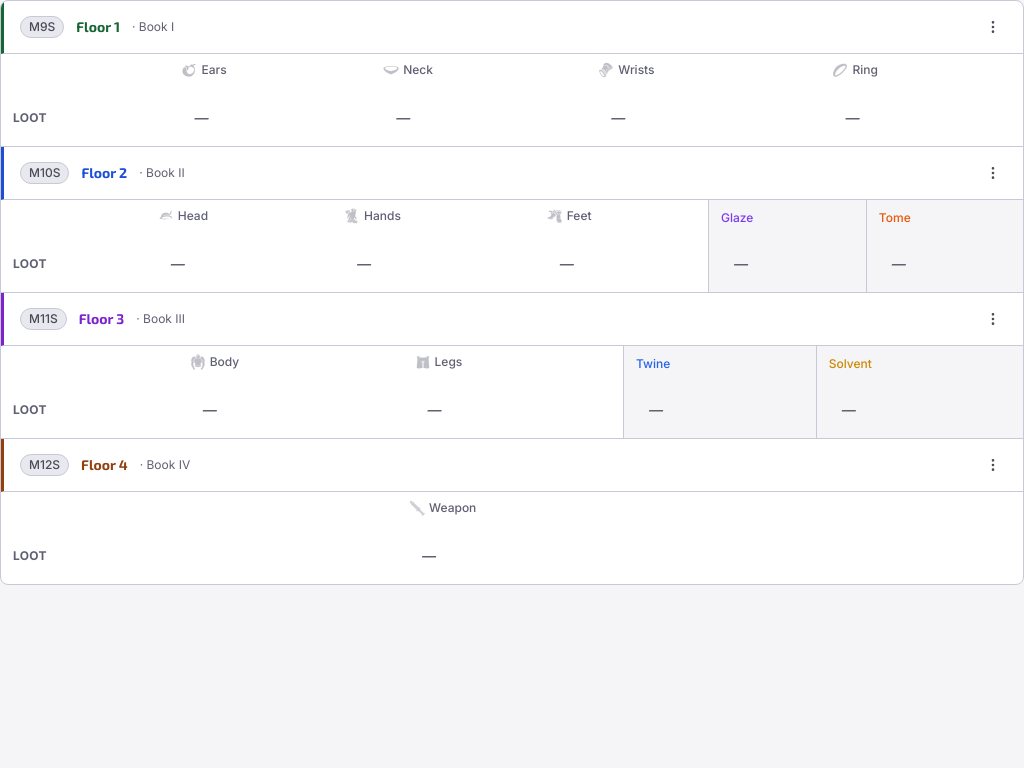
it: D7: floor-header kebab gains the floor's resets, two triggers › right-clicking the floor header bar opens the SAME items the kebab click does
Right-click the text "Floor 2".
right_click(512, 174)  # box [1,147,1023,200]
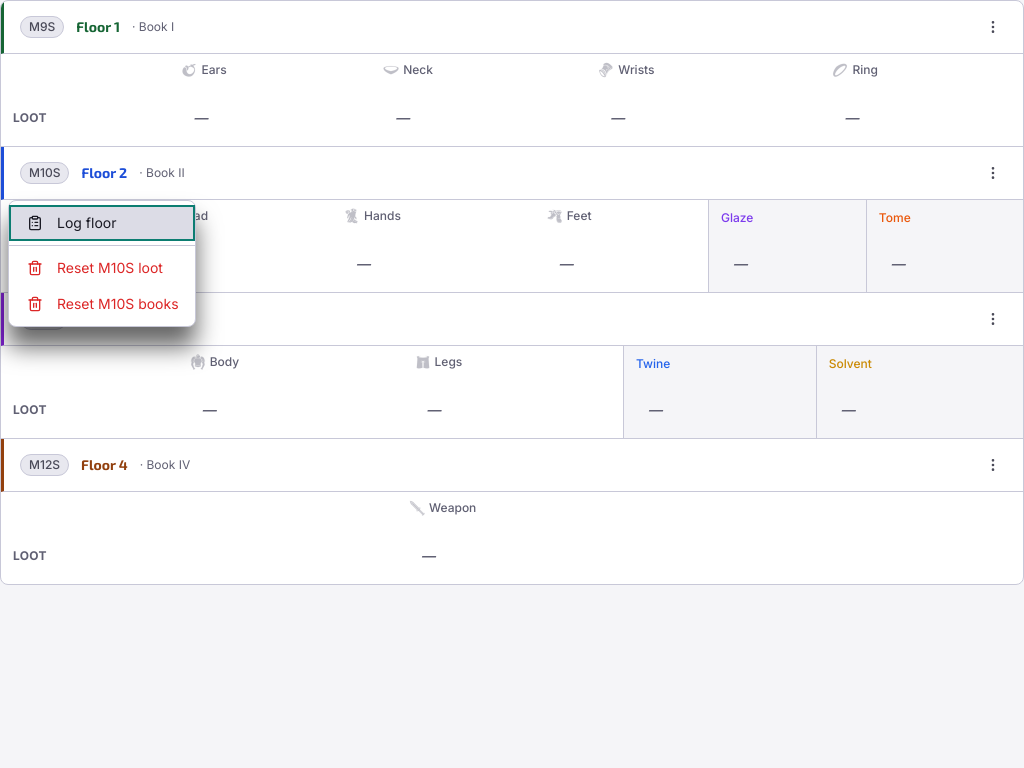
Check: the menu items read "Log floor", "Reset M10S loot", "Reset M10S books", in this order, box [9,205,195,241]; [9,250,195,286]; [9,286,195,322]
